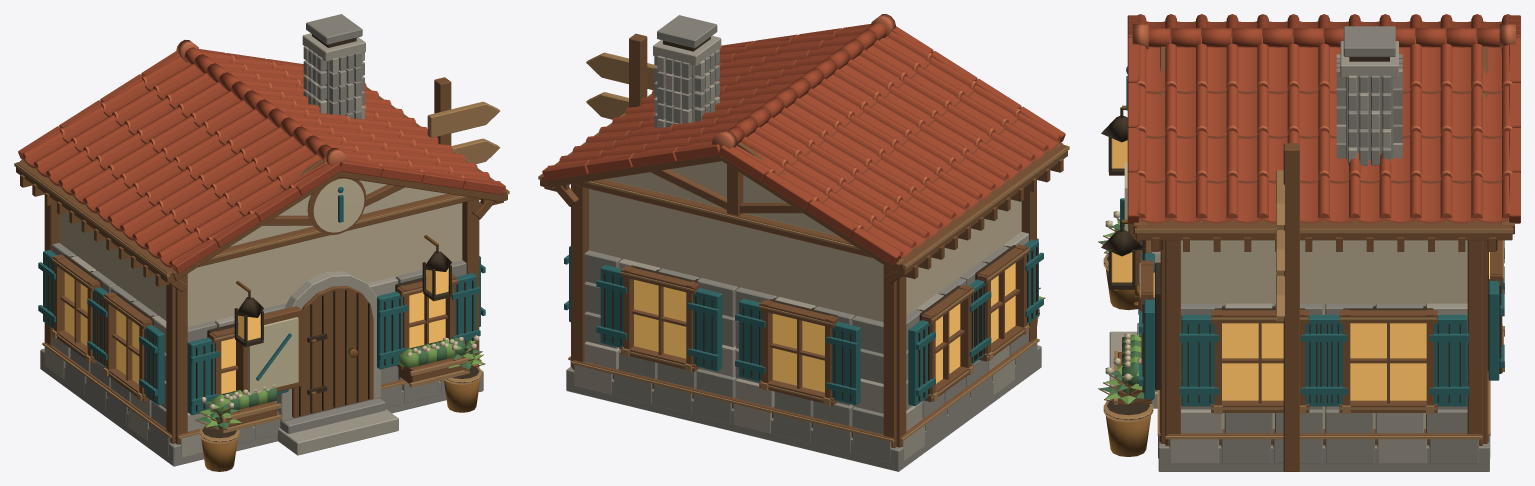
3 renders of one model, left to right at view 1: azimuth 30°, elevation 25°; view 2: azimuth 150°, elevation 25°; view 3: azimuth 270°, elevation 25°, orthographic. The views are drawn at different scales.
Parts seen in each view (by area): view 1: alpine_junction_hub_geometry; view 2: alpine_junction_hub_geometry; view 3: alpine_junction_hub_geometry.
Boxes of the visible parts, left/top/right/bottom form: alpine_junction_hub_geometry: left=14, top=14, right=509, bottom=471; alpine_junction_hub_geometry: left=538, top=14, right=1069, bottom=471; alpine_junction_hub_geometry: left=1098, top=14, right=1520, bottom=471.
Bounding box in the file's own units: 1.04 × 0.8093 × 0.7822.
